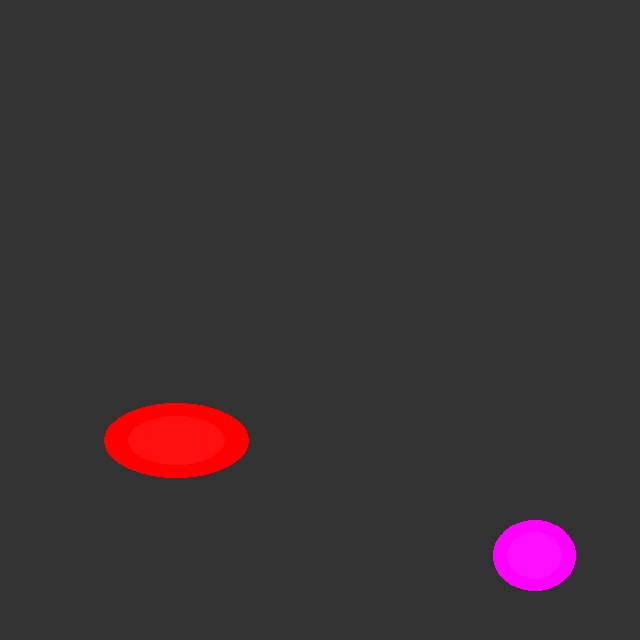fish: (104, 403, 248, 477), (493, 520, 575, 590)
